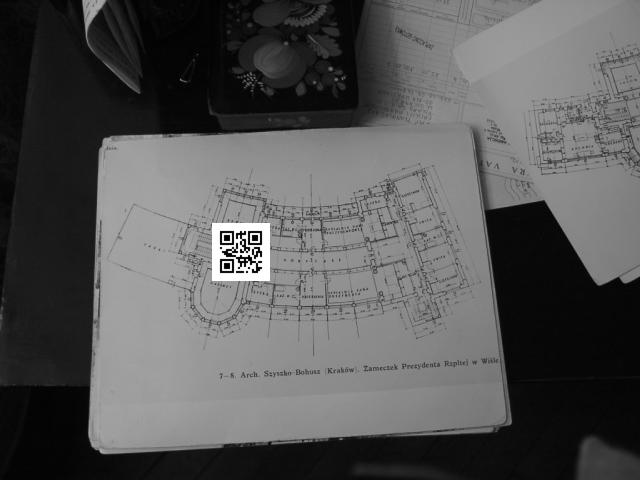qr_code: (211, 223, 271, 281)
